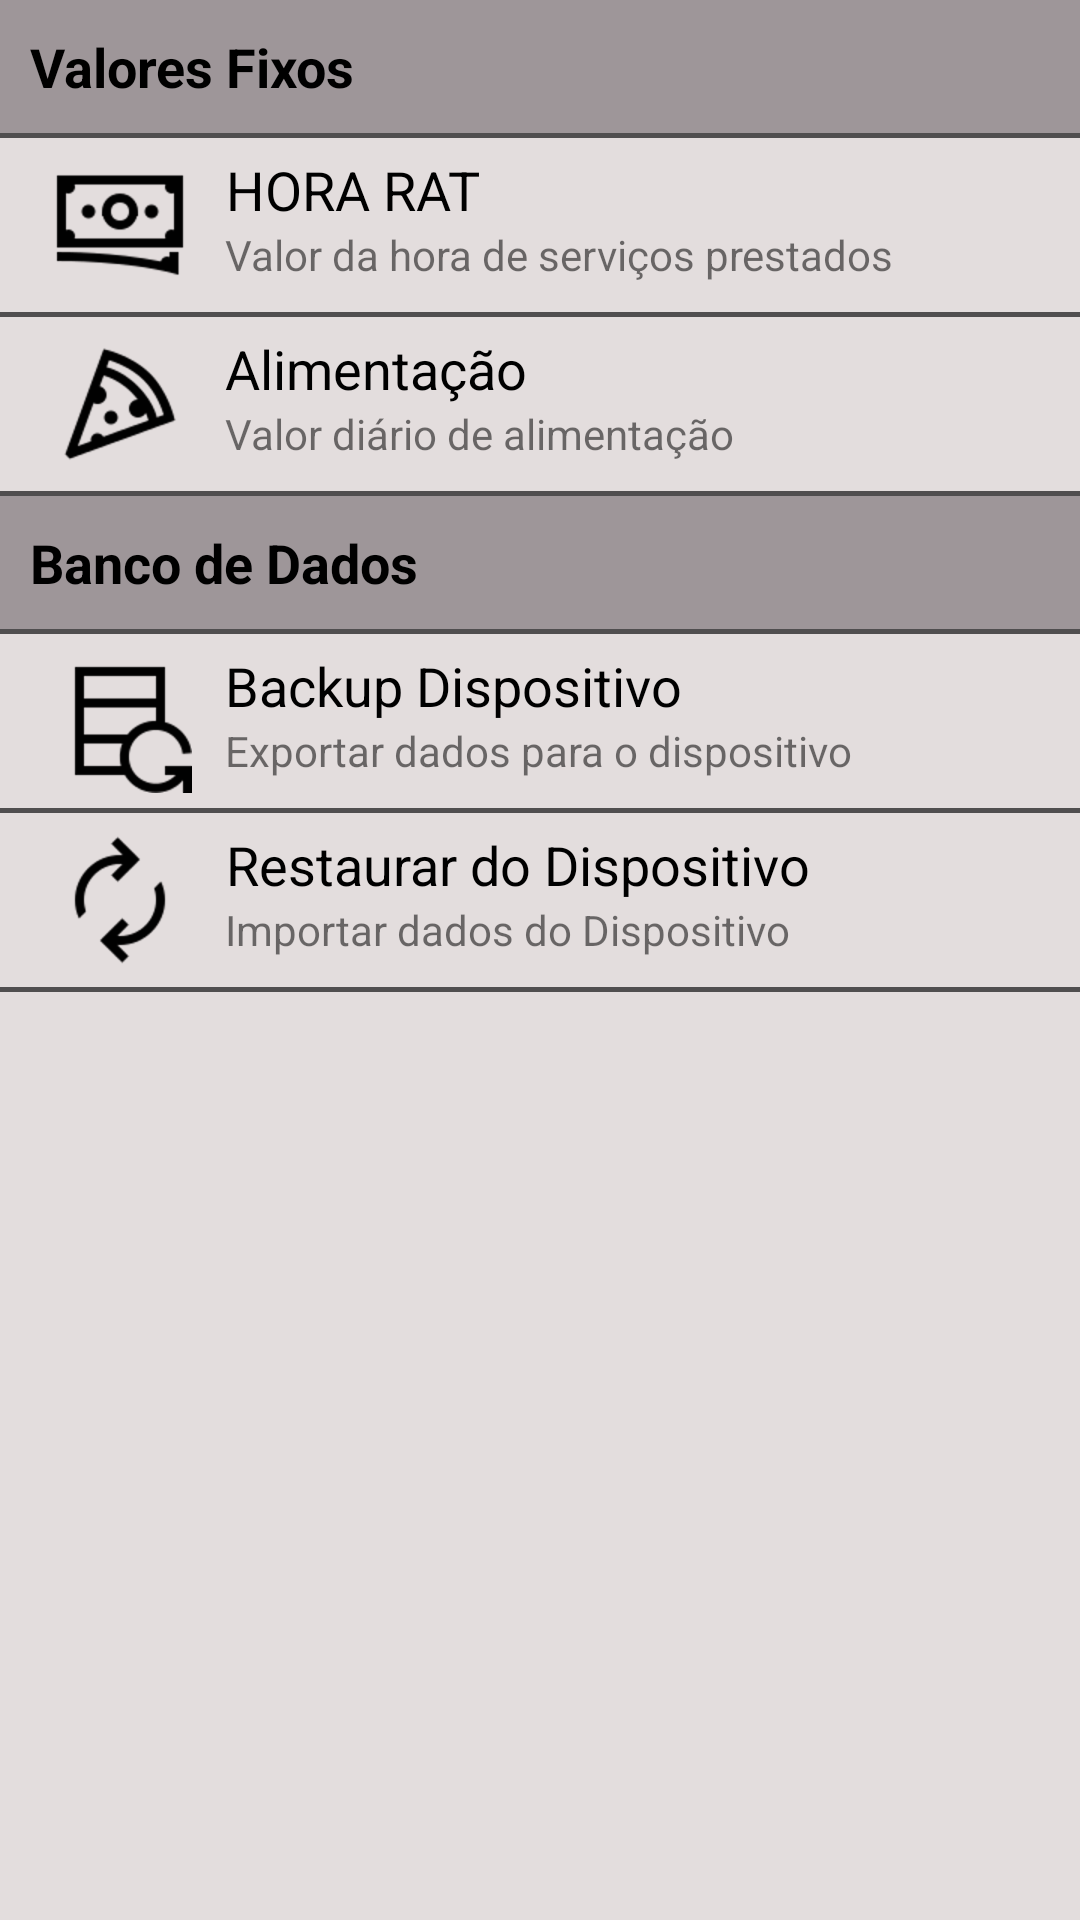

Icons on this 1080×1920 Android screen, each with the point to tap as (x=x, y=y):
databackup: (x=133, y=729)
money: (x=120, y=225)
pizza: (x=120, y=403)
synchronize: (x=120, y=900)
